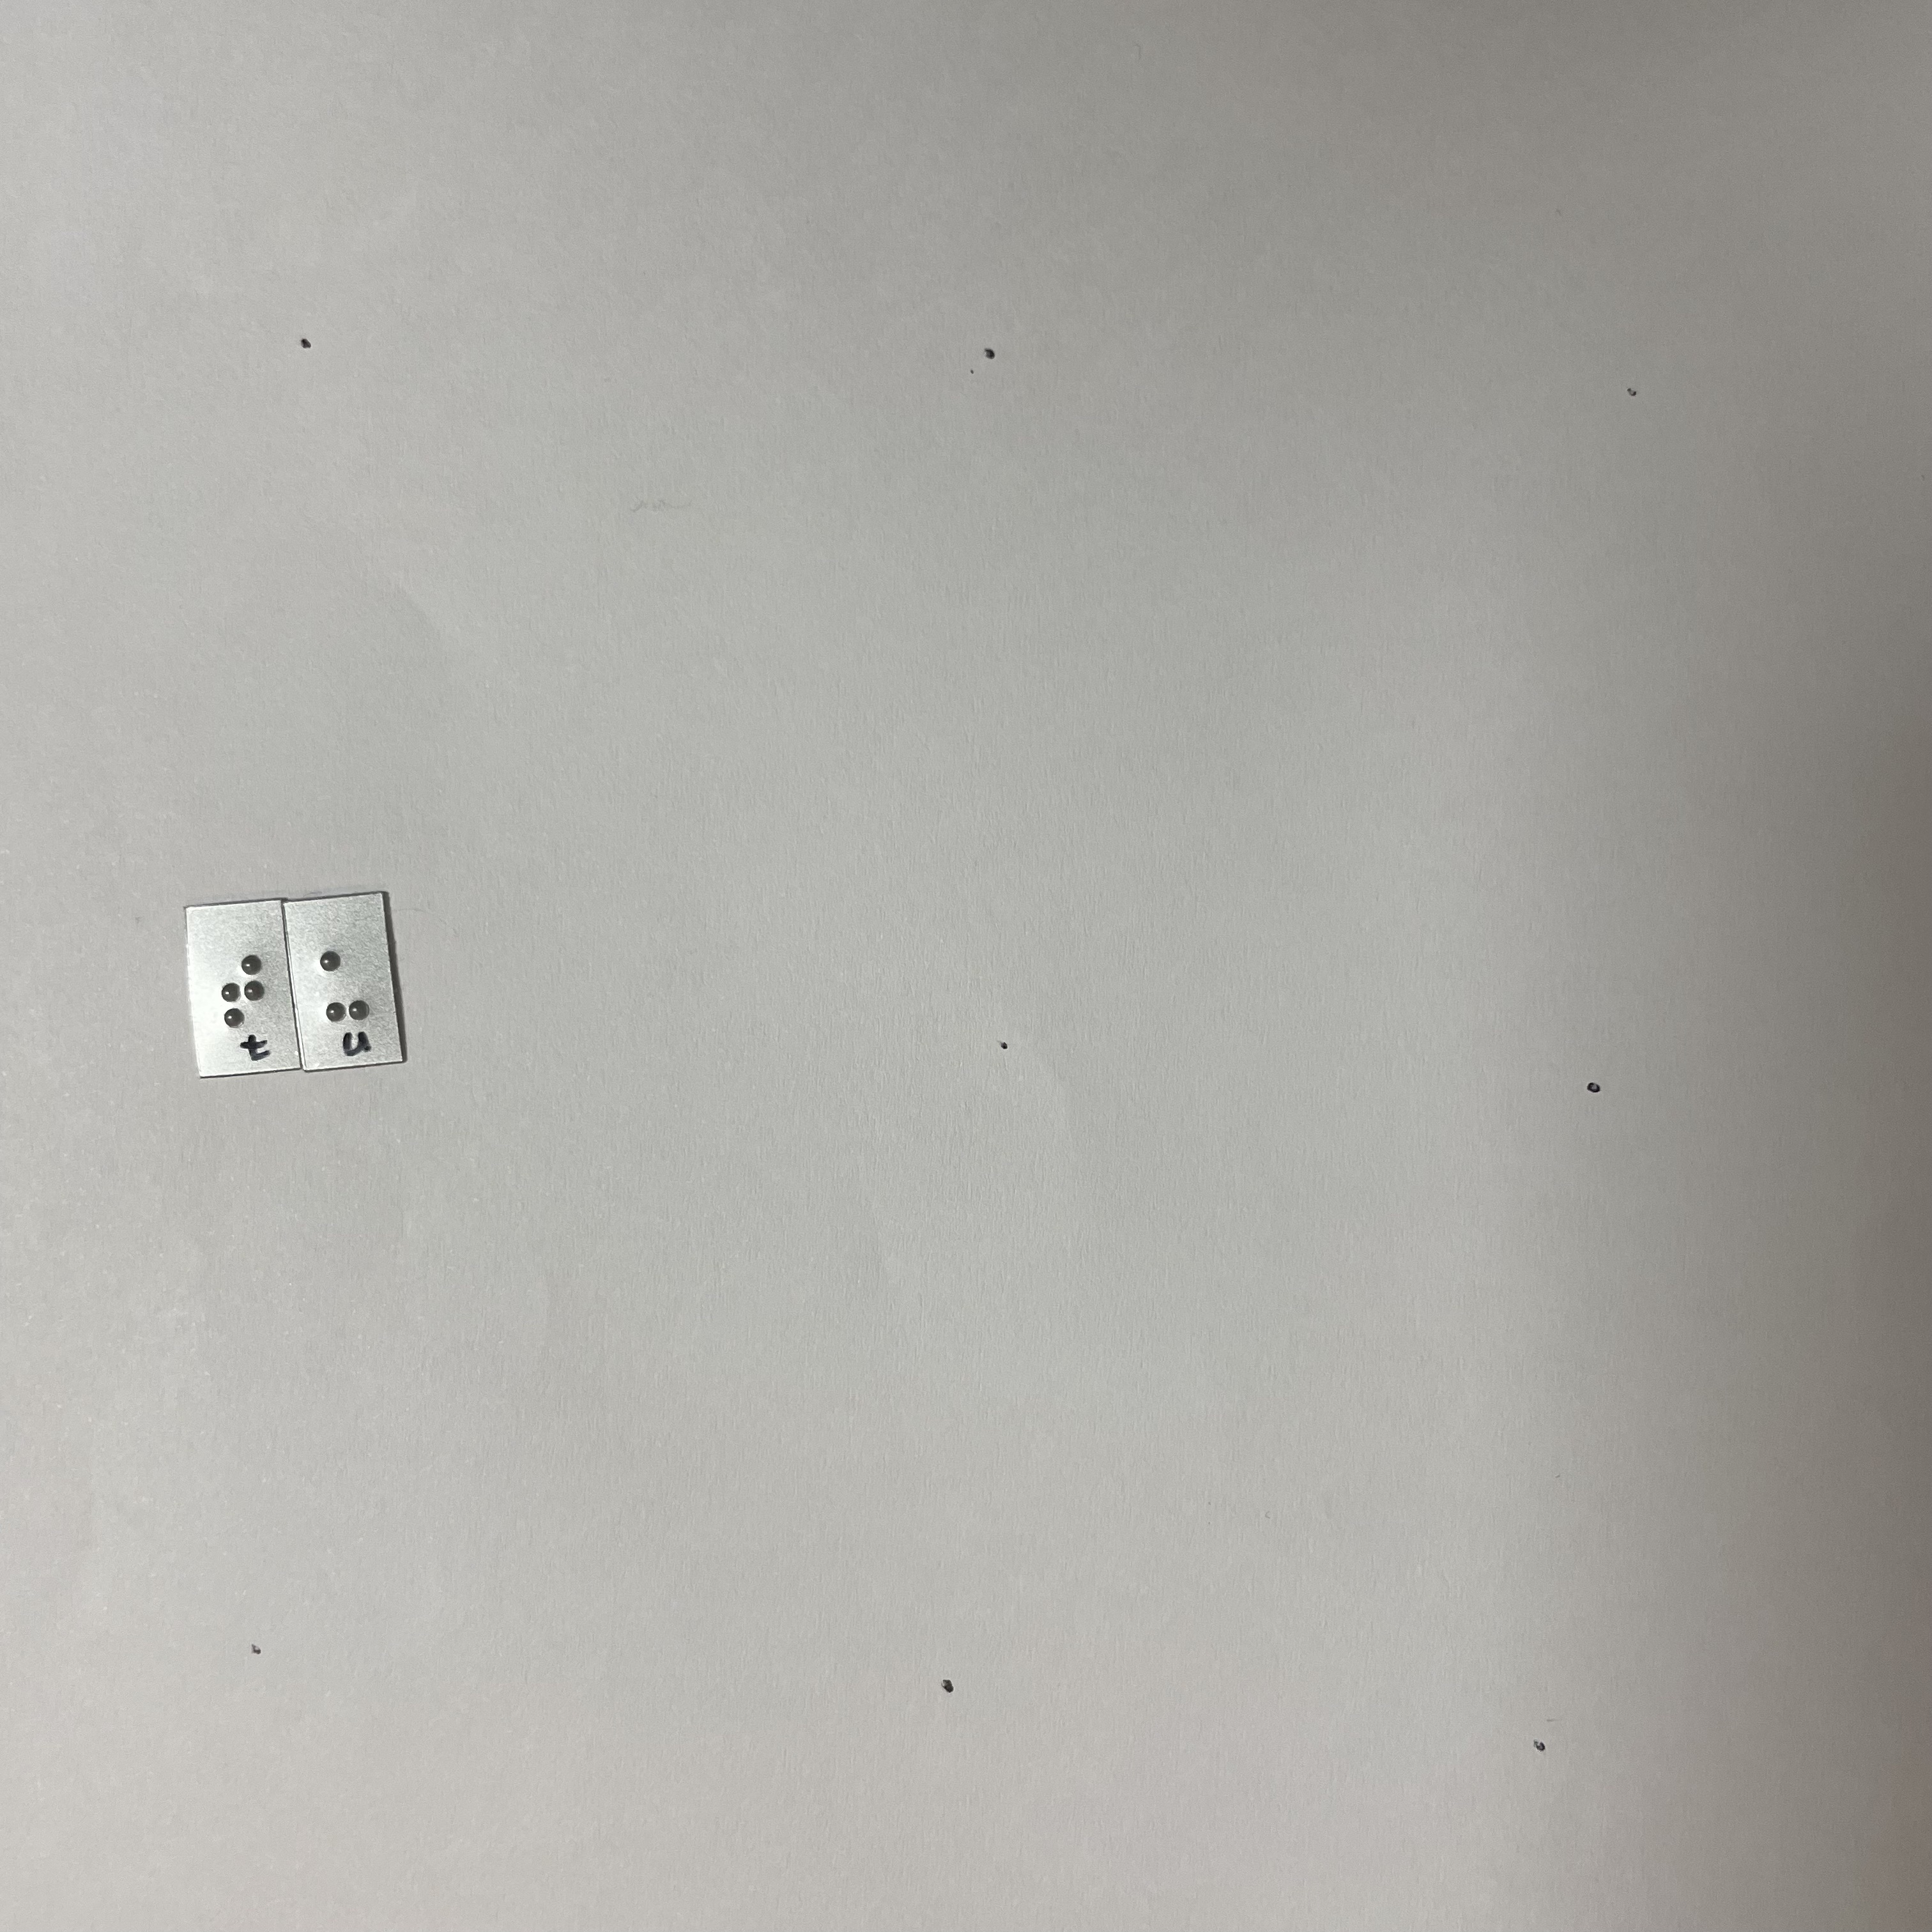t: (213, 951, 275, 1034)
u: (312, 937, 383, 1030)
